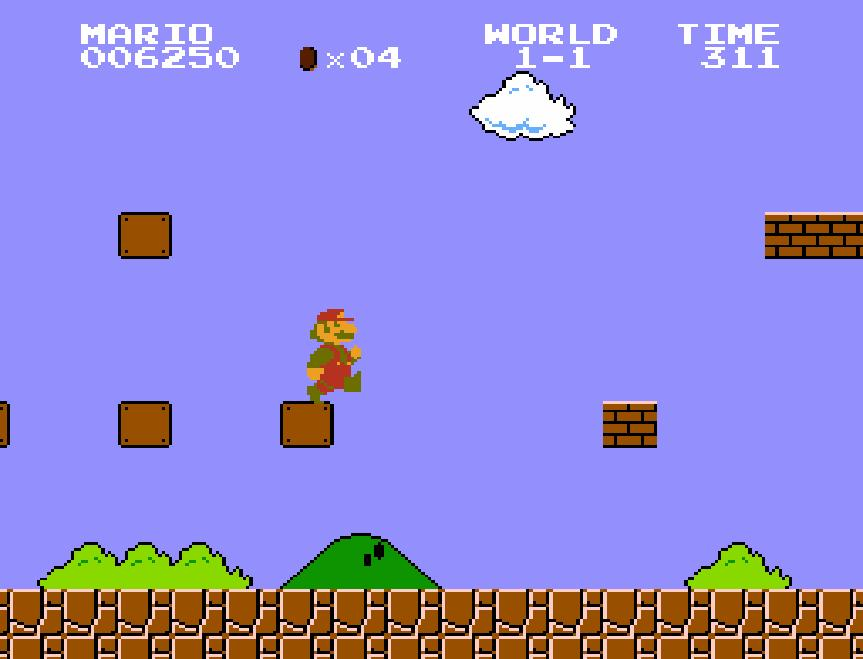big_mario: (304, 307, 362, 405)
